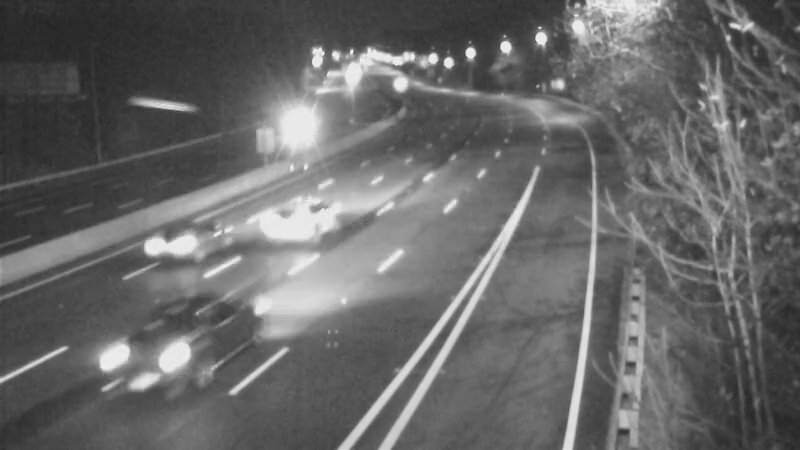vehicle: (104, 306, 214, 416), (249, 184, 329, 264), (132, 207, 212, 287), (373, 60, 423, 110), (268, 98, 318, 148)
